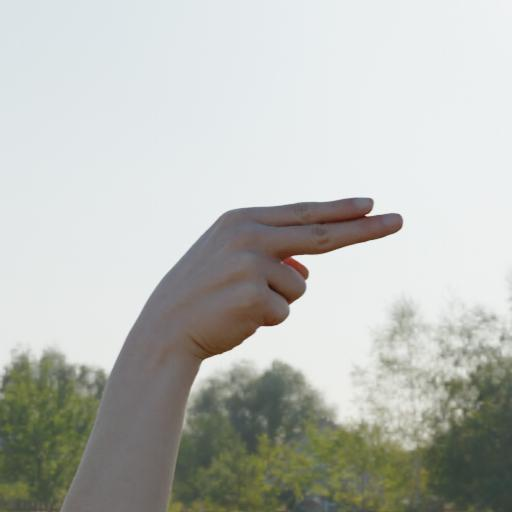H: (128, 164, 415, 373)
